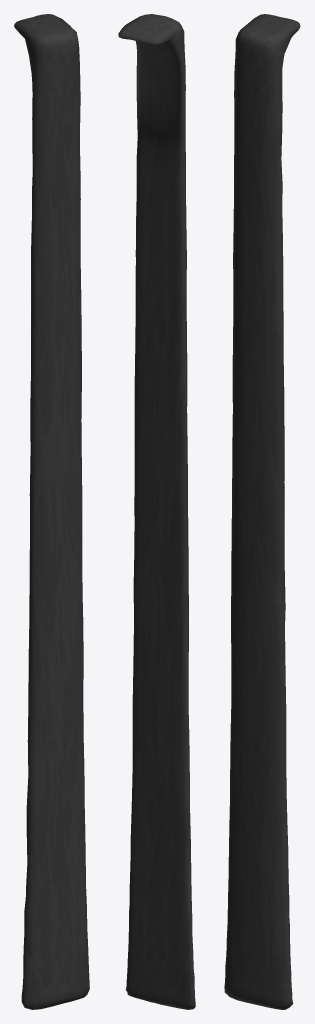
Rendered from isle_waterfall.gltf.
3 renders of one model, left to right at view 1: azimuth 30°, elevation 25°; view 2: azimuth 150°, elevation 25°; view 3: azimuth 330°, elevation 25°, orthographic.
Visible parts, largest first — view 1: isle_waterfall; view 2: isle_waterfall; view 3: isle_waterfall.
Boxes of the visible parts, <box> form: isle_waterfall: <box>14,14,89,1009</box>; isle_waterfall: <box>118,14,195,1009</box>; isle_waterfall: <box>224,14,300,1009</box>.
Bounding box in the file's own units: 8.5 × 116 × 6.72.
1 material, 1 textured.
